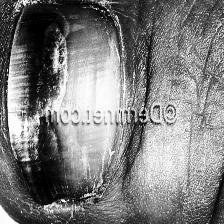Toxin: (0, 0, 138, 106), (0, 127, 130, 209)
